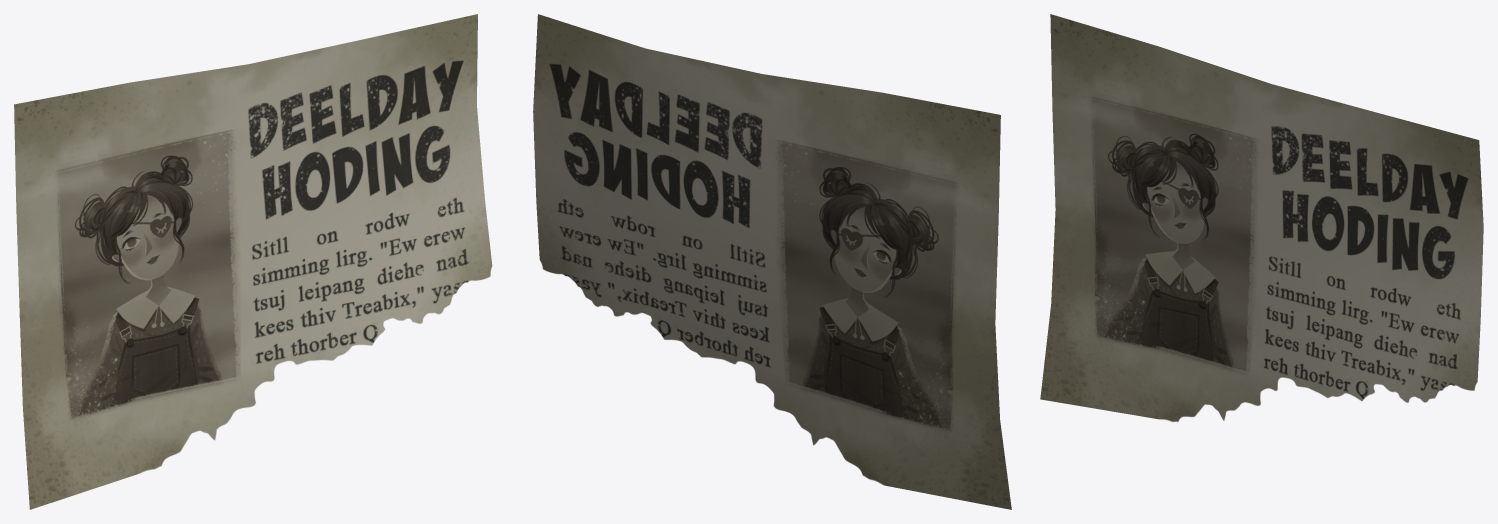
3 views of the same model, side by side, from view 1: azimuth 30°, elevation 25°; view 2: azimuth 150°, elevation 25°; view 3: azimuth 330°, elevation 25° (orthographic). The views are drawn at different scales.
Visible parts, largest first — view 1: SM_Newspaper_B_0; view 2: SM_Newspaper_B_0; view 3: SM_Newspaper_B_0.
Part boxes in pixels (<box>): SM_Newspaper_B_0: <box>14,14,492,509</box>; SM_Newspaper_B_0: <box>533,14,1011,509</box>; SM_Newspaper_B_0: <box>1040,14,1483,421</box>.
Size of the model in its own units: 0.4919 by 0.3992 by 0.0438.
Materials: 1 (1 with a texture image).
